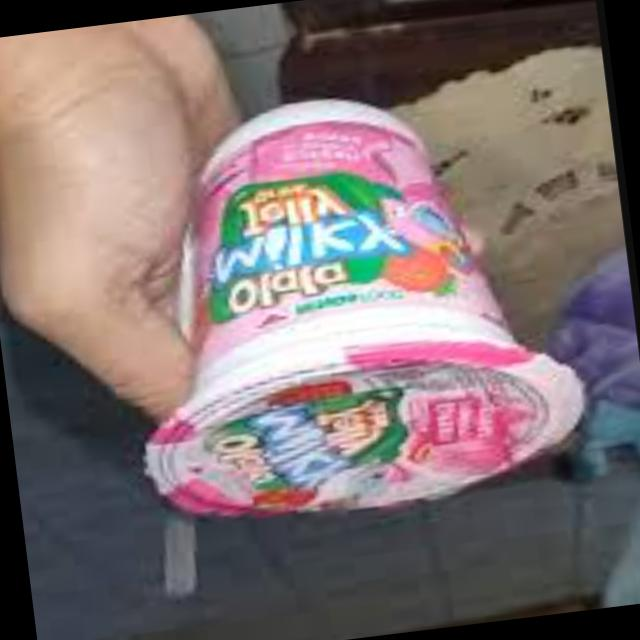GelasPlastik: (98, 70, 598, 542)
